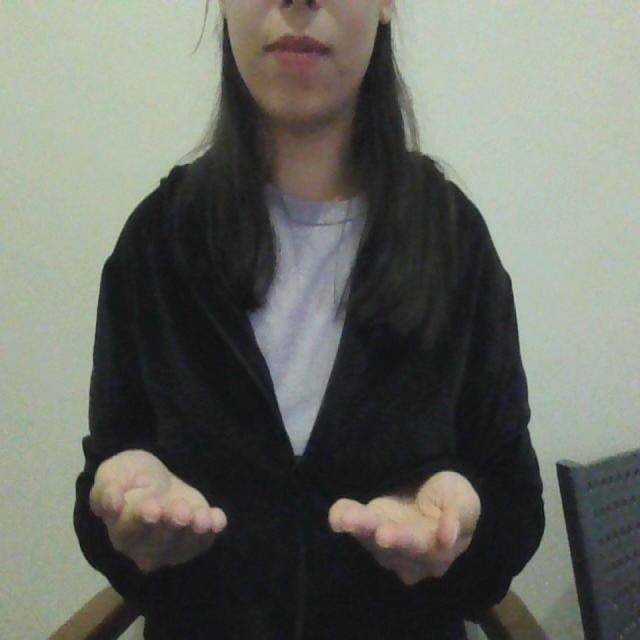Evet: (86, 444, 487, 595)
